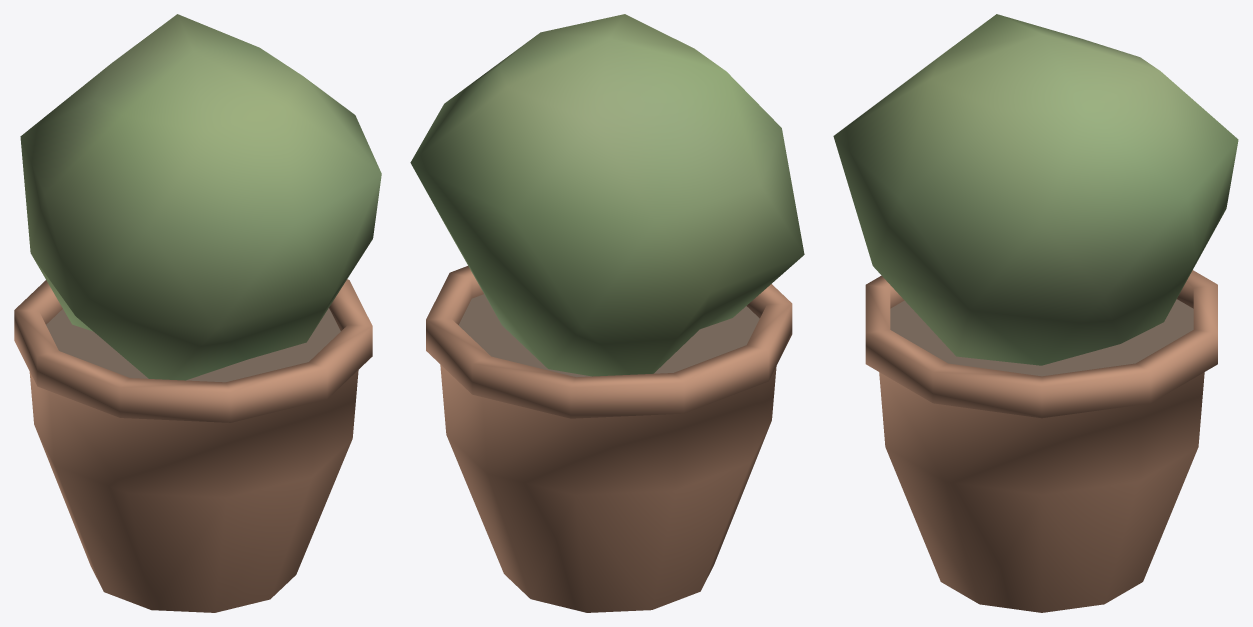
Rendered from SM_BM_BP_PotShrub.glb.
3 views of the same model, side by side, from view 1: azimuth 30°, elevation 25°; view 2: azimuth 150°, elevation 25°; view 3: azimuth 270°, elevation 25° (orthographic). The views are drawn at different scales.
Parts seen in each view (by area): view 1: SM_BM_BP_PotShrub; view 2: SM_BM_BP_PotShrub; view 3: SM_BM_BP_PotShrub.
Boxes of the visible parts, x1,y1,x2,y2 form: SM_BM_BP_PotShrub: [14, 14, 381, 612]; SM_BM_BP_PotShrub: [410, 14, 804, 612]; SM_BM_BP_PotShrub: [833, 14, 1238, 612].
Size of the model in its own units: 0.6597 by 1.03 by 0.7086.
